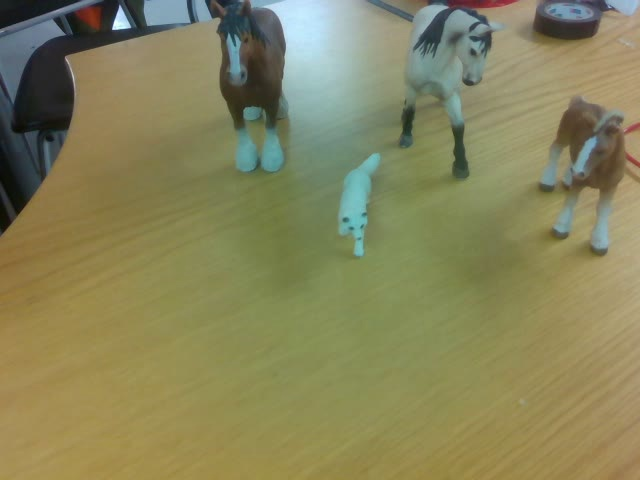toy: (398, 1, 507, 179), (539, 92, 627, 258), (207, 1, 286, 173), (335, 153, 382, 258)
